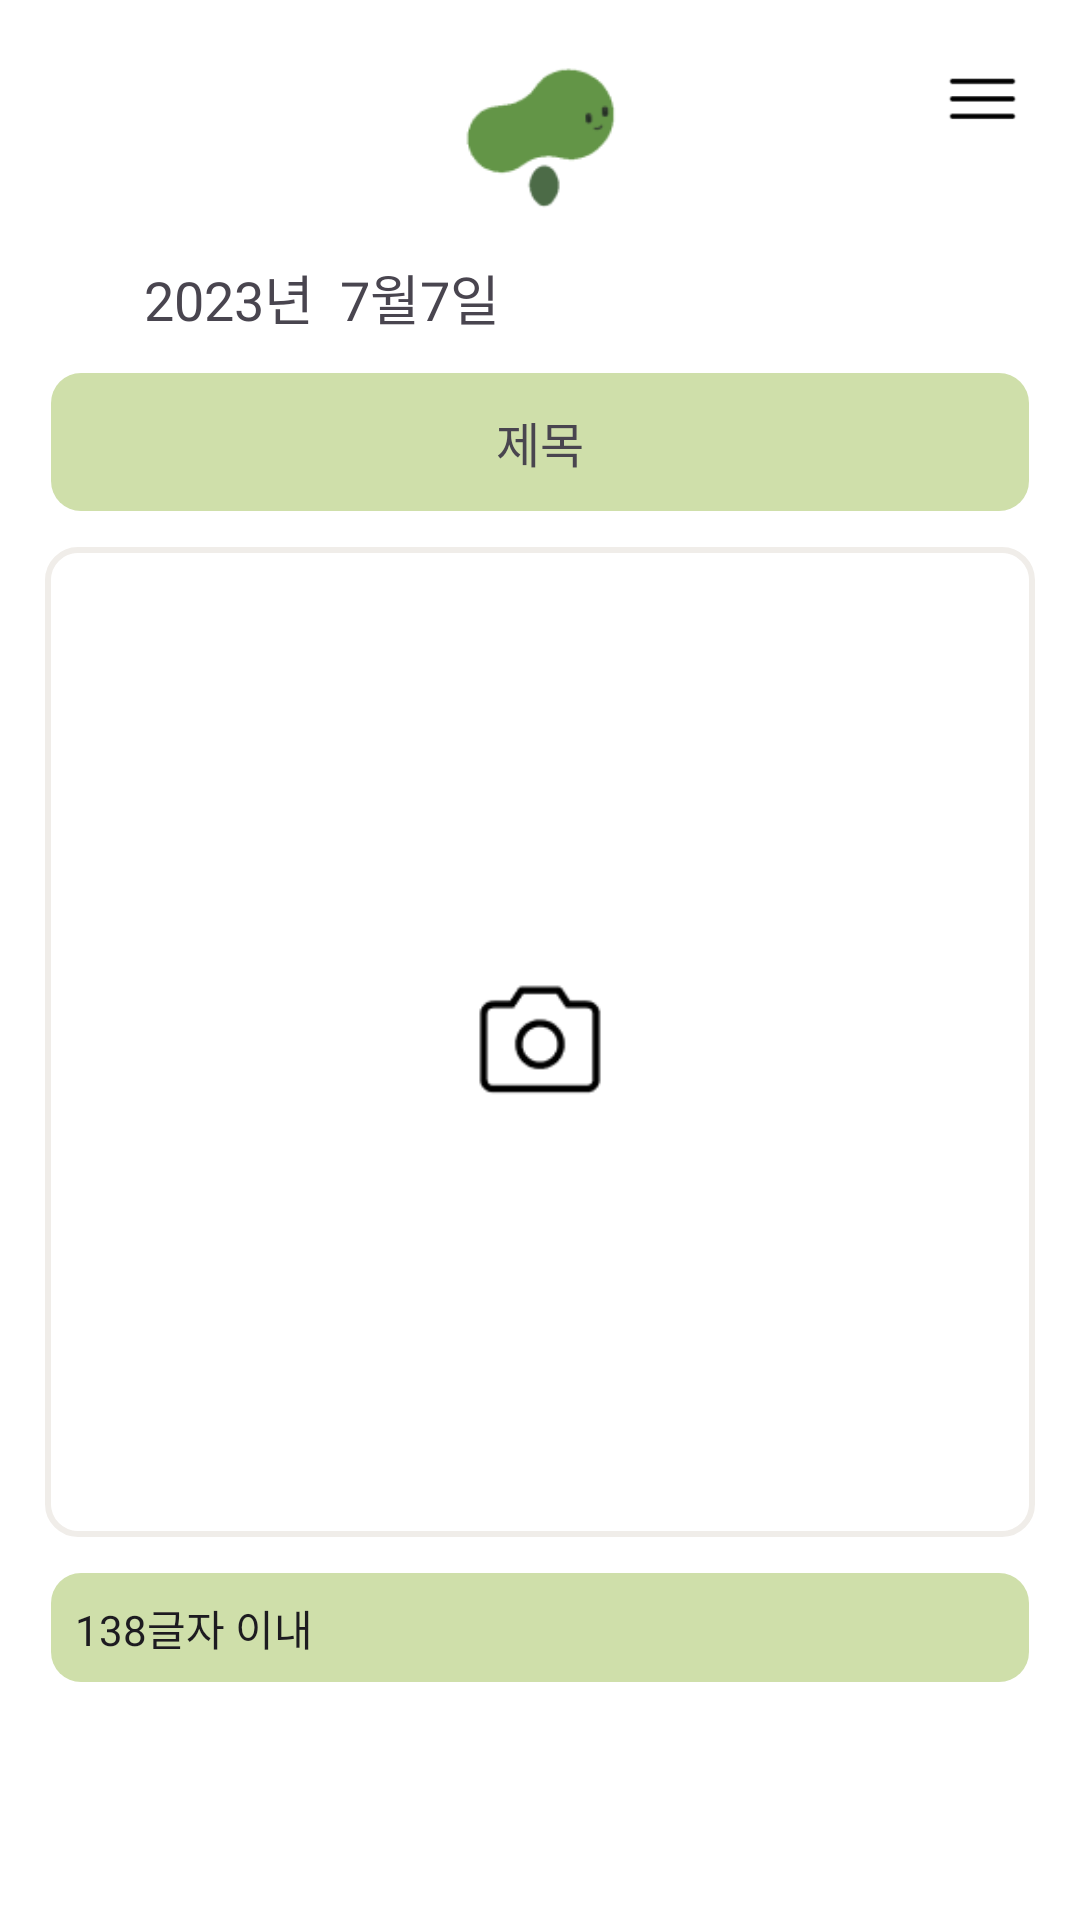

Named icons in this screenshot (1080 × 1920) and their centers, point (x, y):
menu: point (982, 98)
